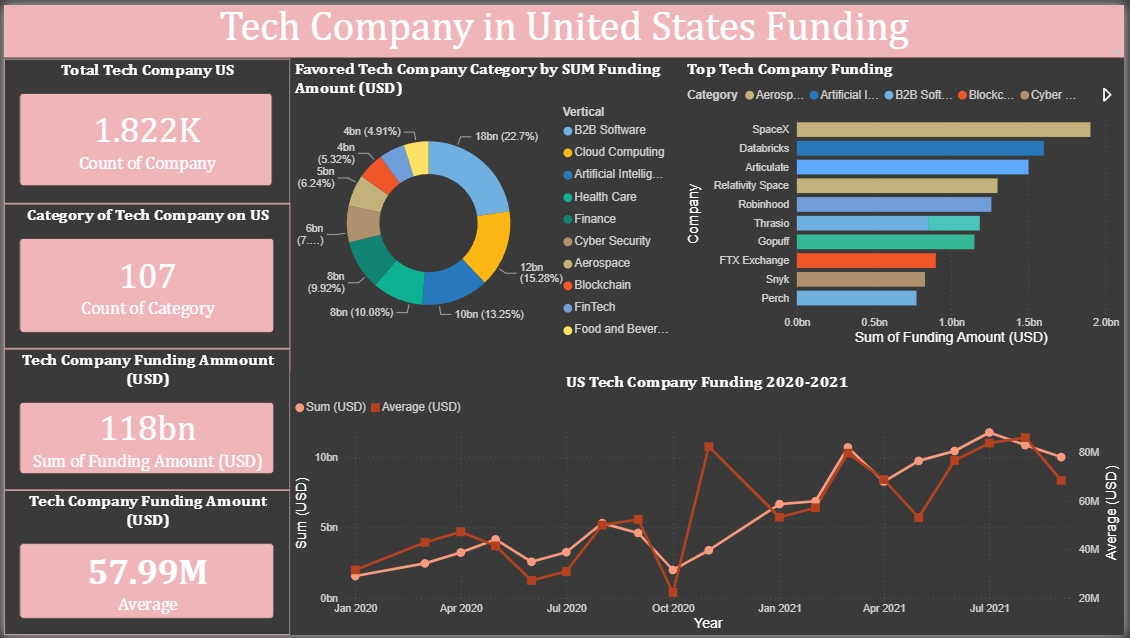

This screenshot's page, from the dashboard's own definition file:
{"tool":"powerbi","page":{"name":"Page 1","canvas":[1280,720],"ordinal":0},"visuals":[{"type":"textbox","title":"Tech Company in United States Funding","box":[0,0,1280,60],"z":0},{"type":"cardVisual","title":"Tech Company Funding Ammount (USD)","fields":{"Data":["Sum(tech_fundings_us1.Funding Amount (USD))"]},"box":[0,392.9,327.1,161.4],"z":1000},{"type":"cardVisual","title":"Total Tech Company US","fields":{"Data":["Count(tech_fundings_us1.Company)"]},"box":[0,61.4,327.1,165.7],"z":2000},{"type":"cardVisual","title":"Tech Company Funding Amount (USD)","fields":{"Data":["Avg(tech_fundings_us1.Funding Amount (USD))"]},"box":[0,554.3,327.1,165.7],"z":4000},{"type":"barChart","title":"Top Tech Company Funding","fields":{"Category":["tech_fundings_us1.Company"],"Y":["Sum(tech_fundings_us1.Funding Amount (USD))"],"Series":["tech_fundings_us1.Vertical"]},"box":[775.8,61,504.5,332.3],"z":5000},{"type":"donutChart","title":"Favored Tech Company Category by SUM Funding Amount (USD)","fields":{"Category":["tech_fundings_us1.Vertical"],"Y":["Sum(tech_fundings_us1.Funding Amount (USD))"]},"box":[327.1,61.4,448.6,332.9],"z":6000},{"type":"lineChart","title":"US Tech Company Funding 2020-2021","fields":{"Y":["Sum(tech_fundings_us1.Funding Amount (USD))"],"Y2":["Avg(tech_fundings_us1.Funding Amount (USD))"],"Category":["tech_fundings_us1.Funding Date.Variation.Date Hierarchy.Year","tech_fundings_us1.Funding Date.Variation.Date Hierarchy.Quarter","tech_fundings_us1.Funding Date.Variation.Date Hierarchy.Month","tech_fundings_us1.Funding Date.Variation.Date Hierarchy.Day"]},"box":[327.1,418.6,952.9,301.4],"z":7000},{"type":"cardVisual","title":"Category of Tech Company on US","fields":{"Data":["Count(tech_fundings_us1.Vertical)"]},"box":[0,227.1,327.1,165.7],"z":7001}]}

Visuals, with their boxes in screenshot pixels (x1, y1, x2, y2), scaled from the page's 1280x720 canvas onto the 1130x638 screenshot:
"Tech Company in United States Funding" textbox: select_region(0, 0, 1129, 53)
"Tech Company Funding Ammount (USD)" cardVisual: select_region(0, 348, 289, 491)
"Total Tech Company US" cardVisual: select_region(0, 54, 289, 201)
"Tech Company Funding Amount (USD)" cardVisual: select_region(0, 491, 289, 637)
"Top Tech Company Funding" barChart: select_region(685, 54, 1129, 349)
"Favored Tech Company Category by SUM Funding Amount (USD)" donutChart: select_region(289, 54, 685, 349)
"US Tech Company Funding 2020-2021" lineChart: select_region(289, 371, 1129, 637)
"Category of Tech Company on US" cardVisual: select_region(0, 201, 289, 348)
